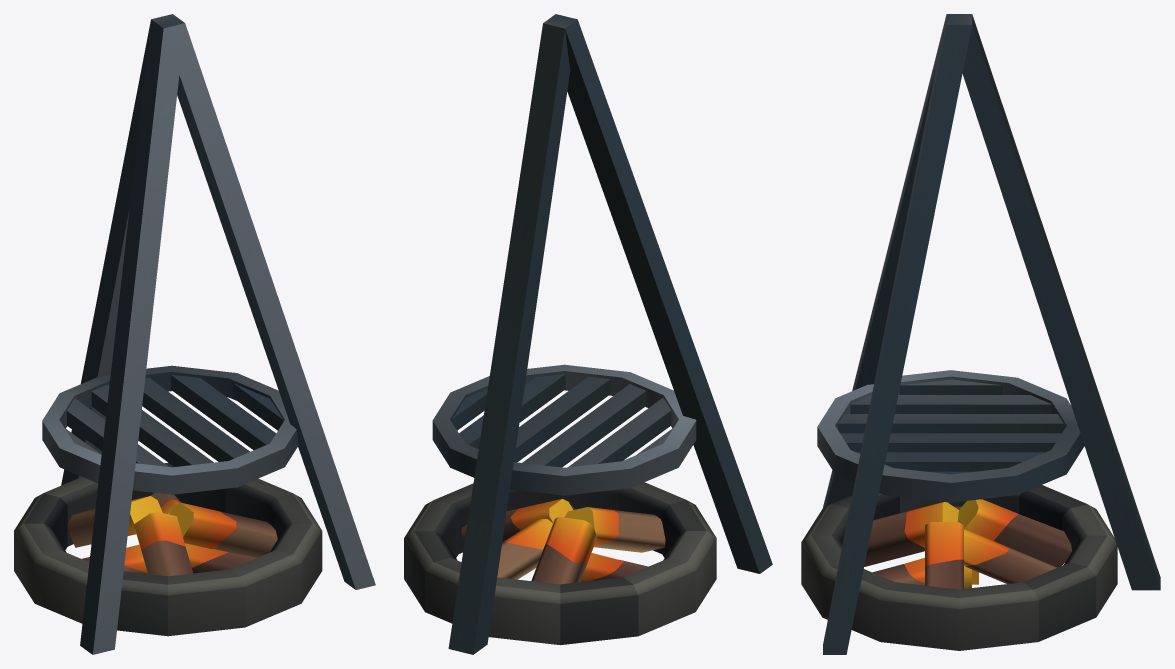
Rendered from fire_pit_grill.fbx.
3 renders of one model, left to right at view 1: azimuth 30°, elevation 25°; view 2: azimuth 150°, elevation 25°; view 3: azimuth 270°, elevation 25°, orthographic. The views are drawn at different scales.
Visible parts, largest first — view 1: fire_pit_grill; view 2: fire_pit_grill; view 3: fire_pit_grill.
Boxes of the visible parts, box(x1,y1,x2,y2) form: fire_pit_grill: box(14, 14, 375, 654); fire_pit_grill: box(404, 14, 772, 654); fire_pit_grill: box(801, 14, 1160, 654).
Bounding box in the file's own units: 108 × 200 × 115.
